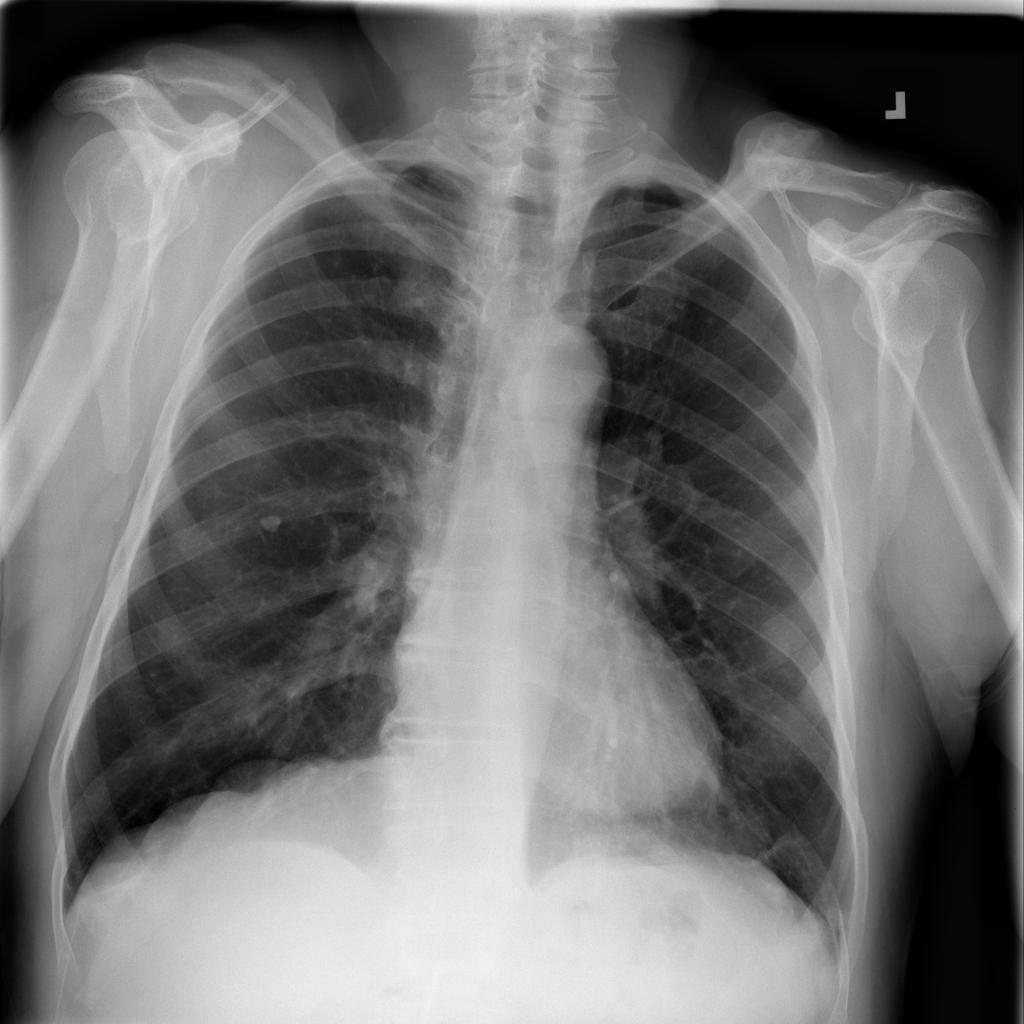nodule: (252, 504, 289, 541)
